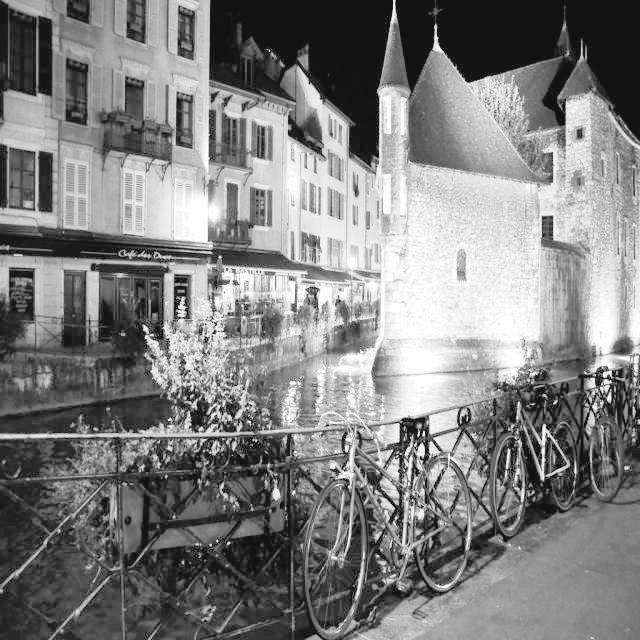Bicycle: (297, 439, 482, 640), (488, 366, 579, 534), (586, 361, 640, 517)
